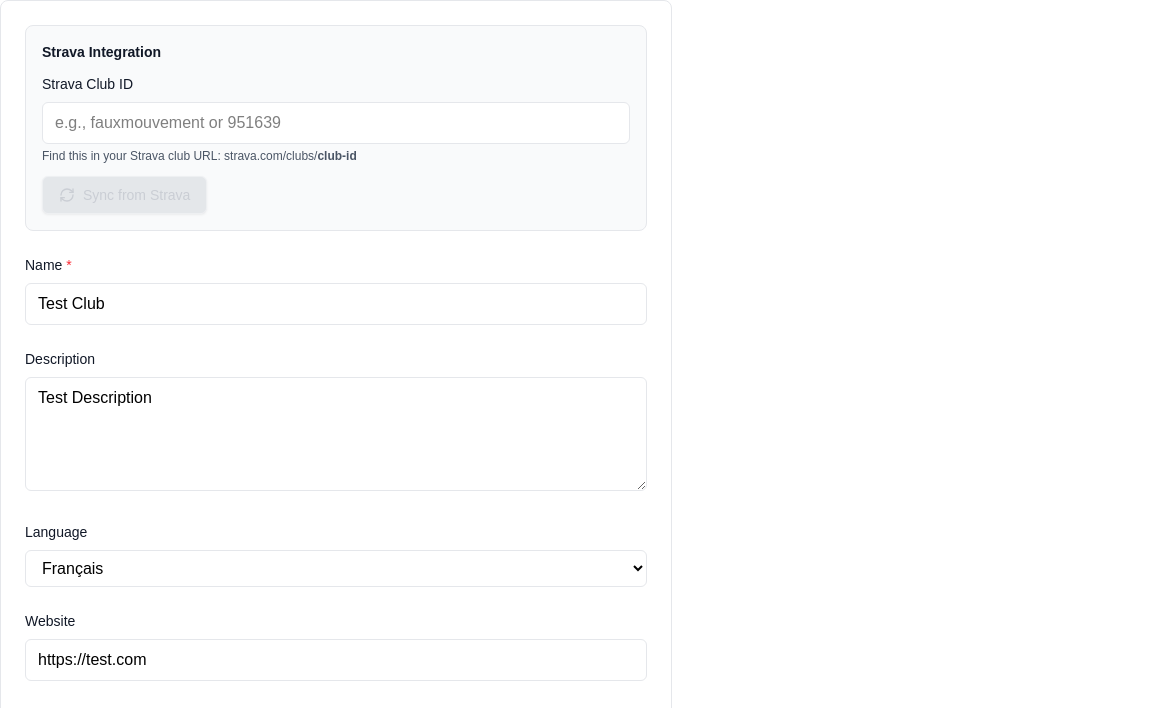
it: ClubForm › Edit Mode › disables buttons while updating
Replace the text in the field labelled "Name*" with "Updated Name" at [336, 304], box [25,283,647,325]
(page scrolled)
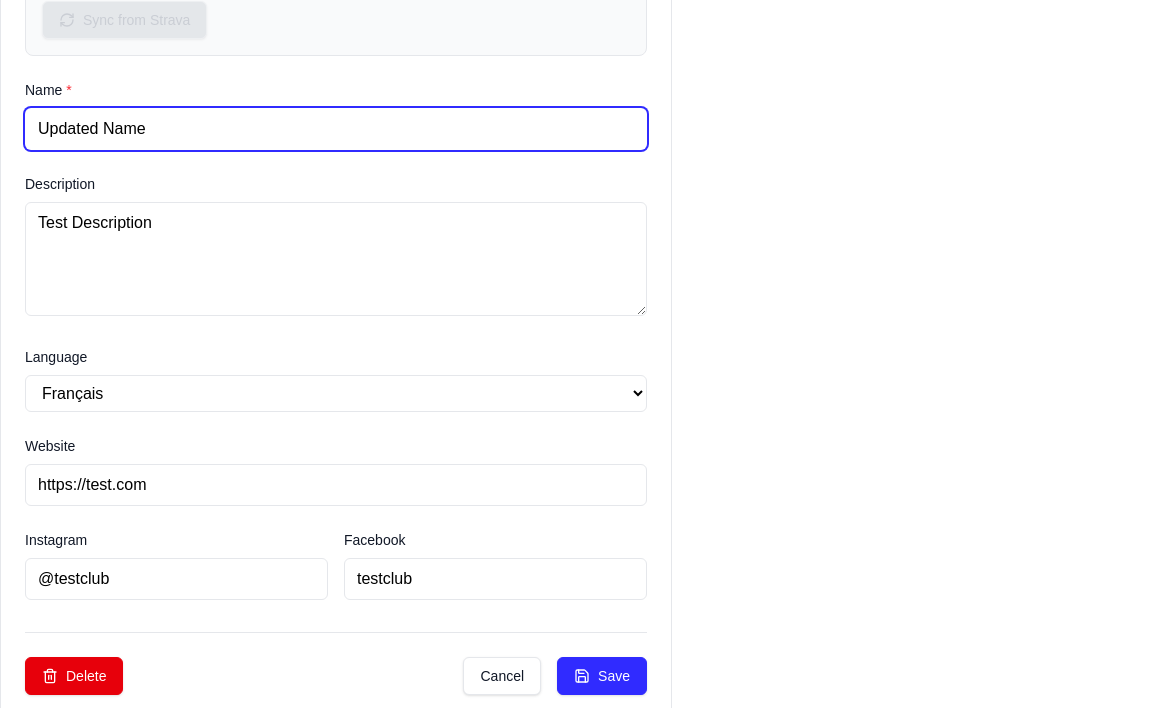
Click the button "Save".
click(602, 676)  # box [557,657,647,695]
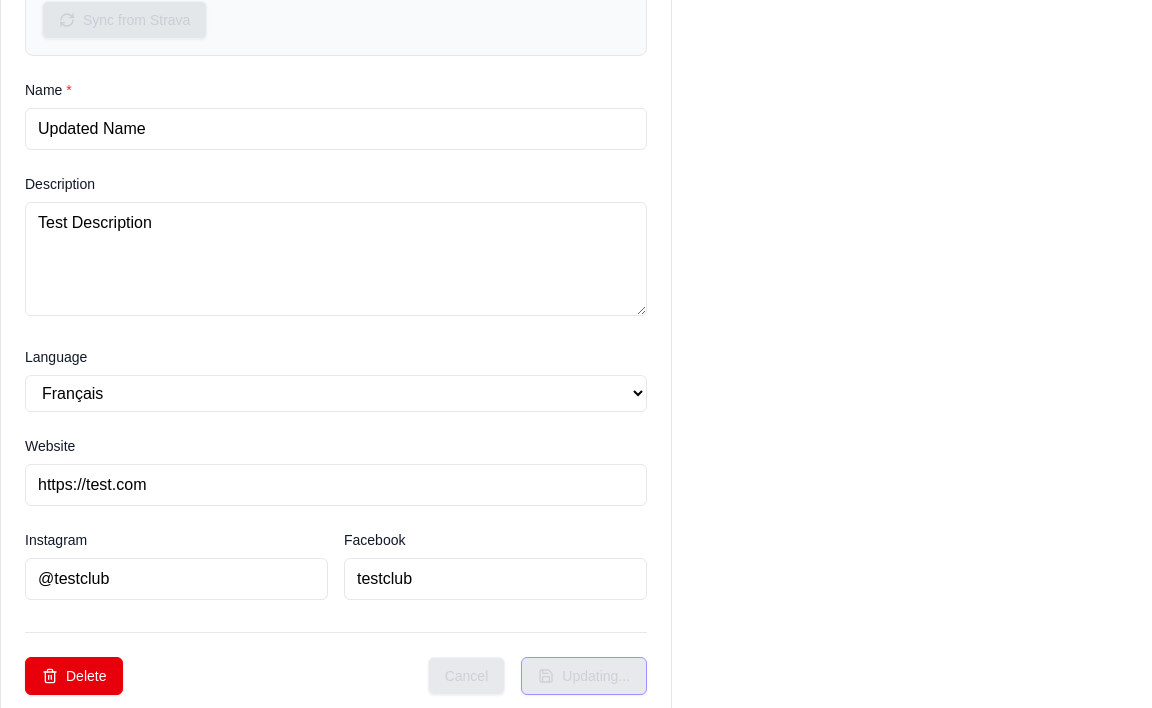
Check: the button "Updating..." is disabled, box [521,657,647,695]
